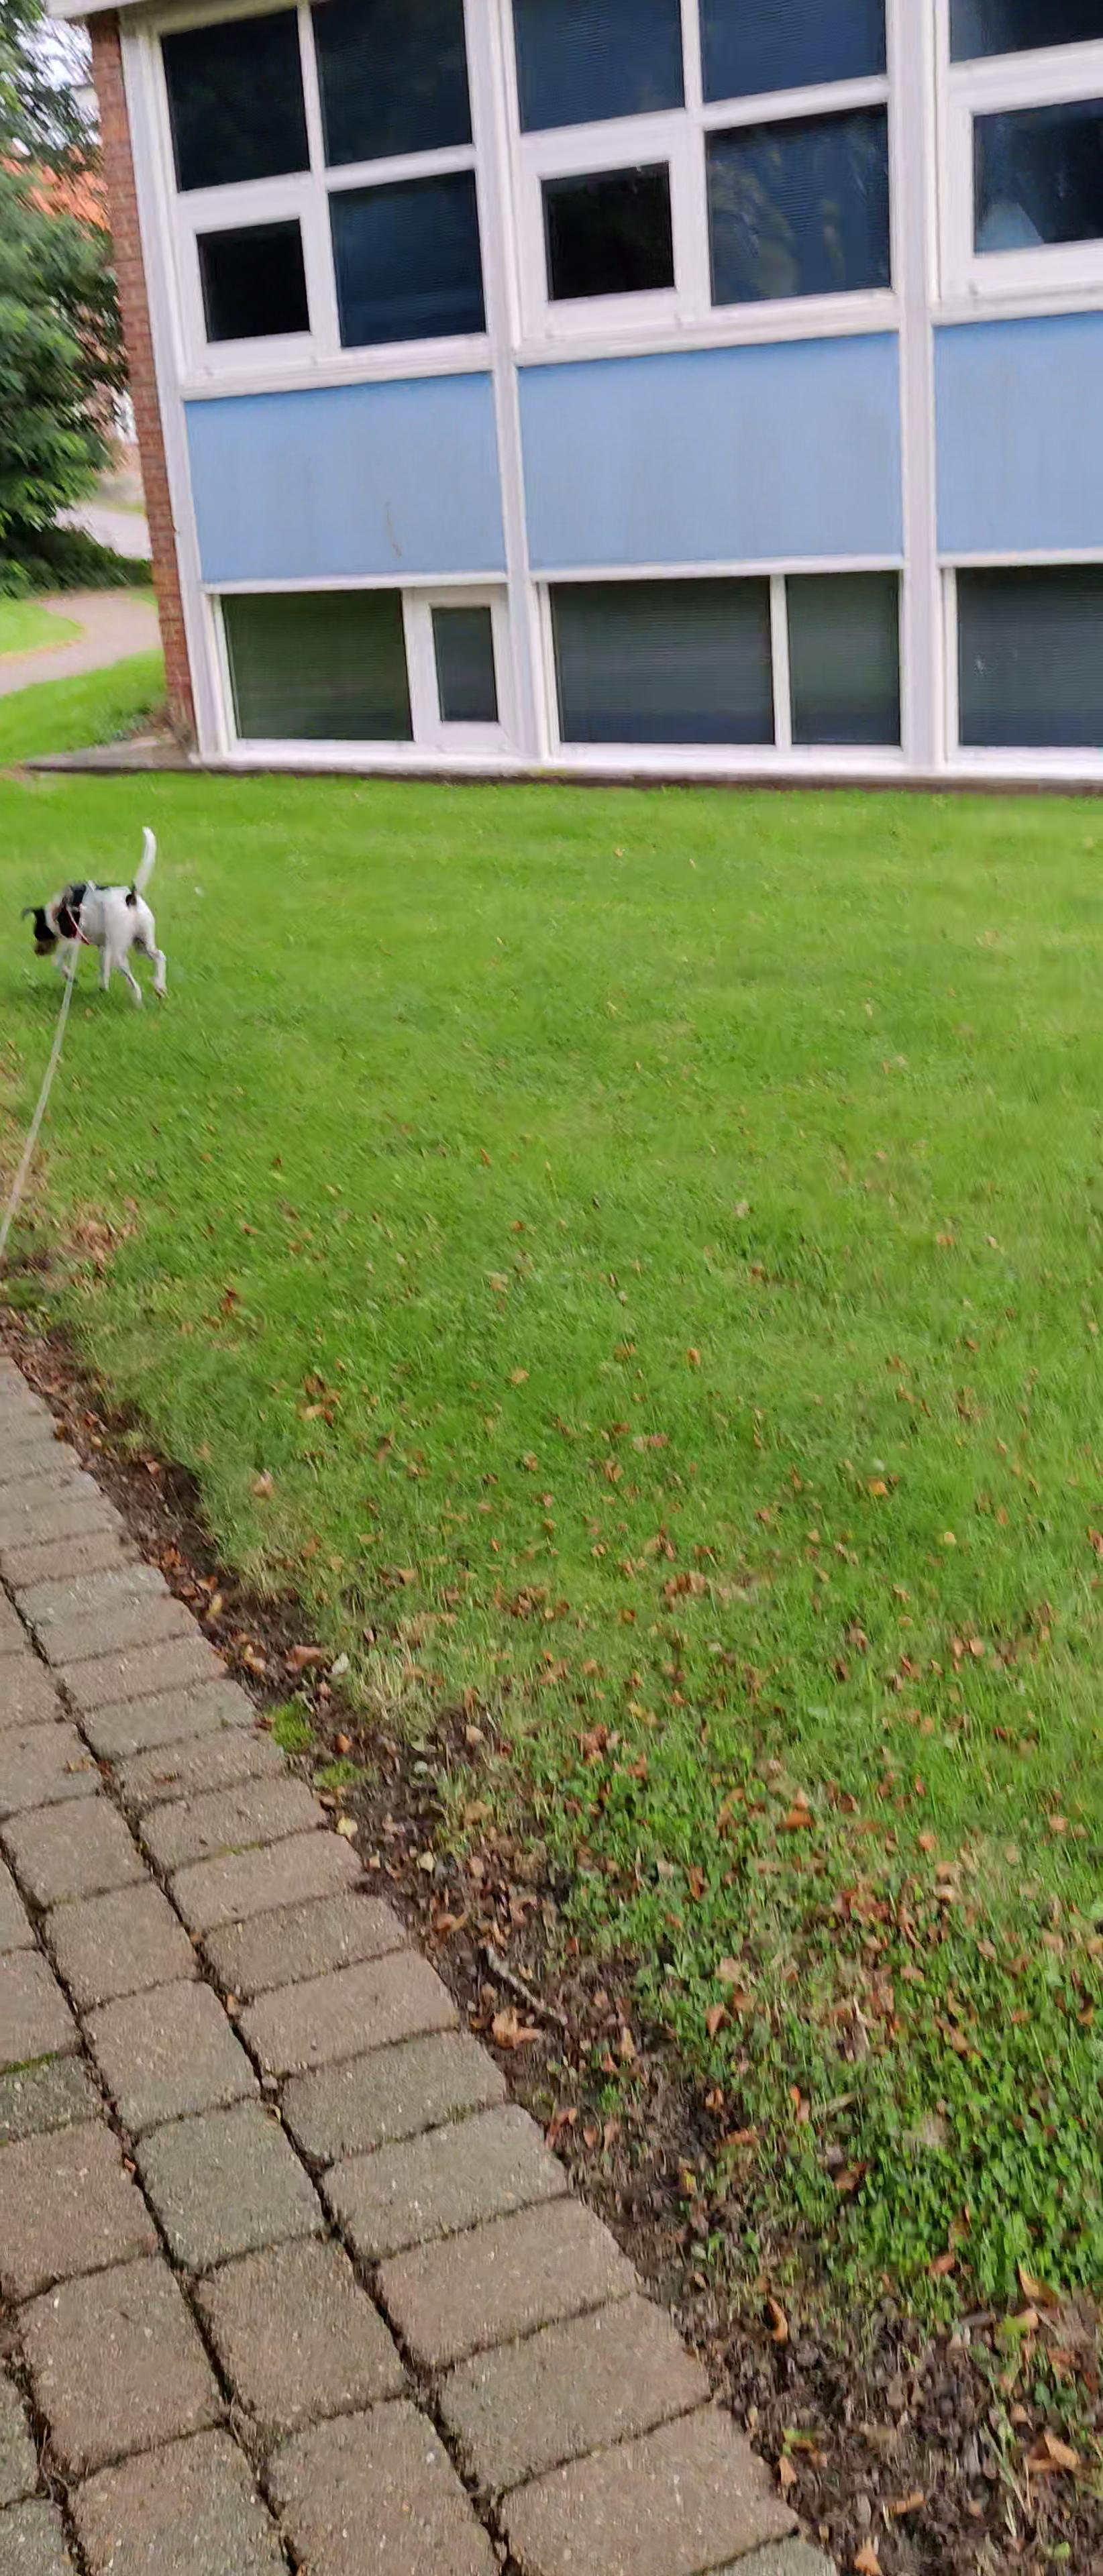Dog: (15, 823, 169, 1010)
